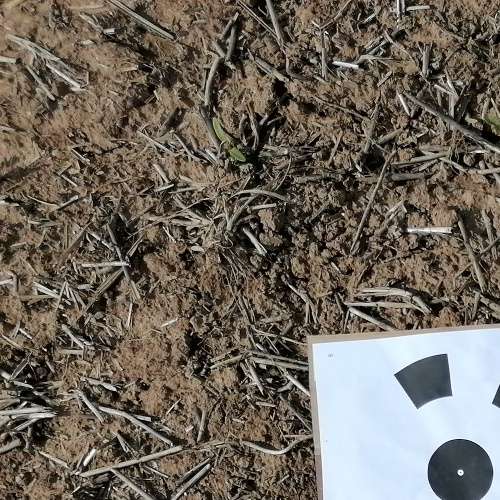beet: (214, 118, 245, 165)
